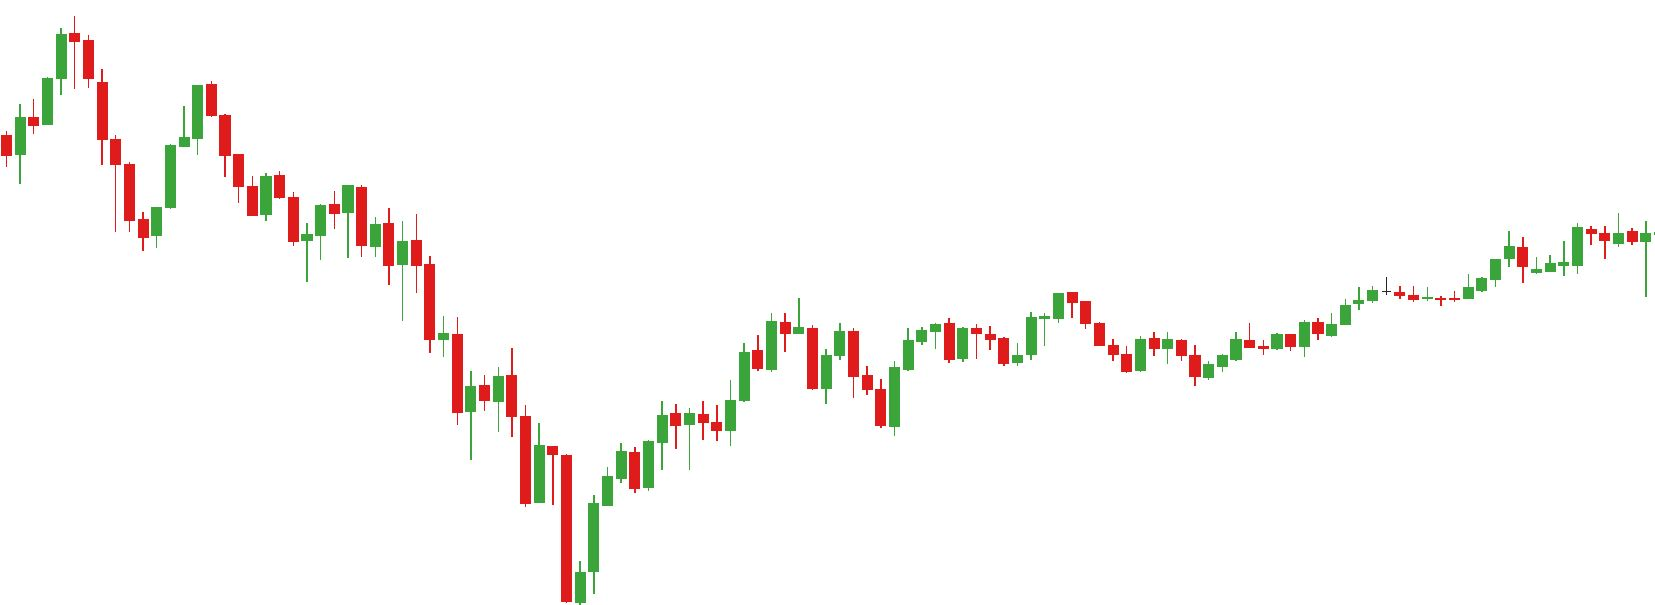buy: (1119, 348, 1218, 393)
